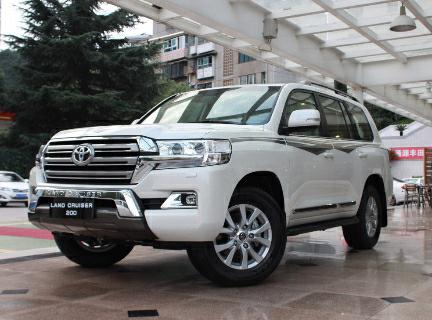丰田-兰德酷路泽: (19, 78, 395, 291)
